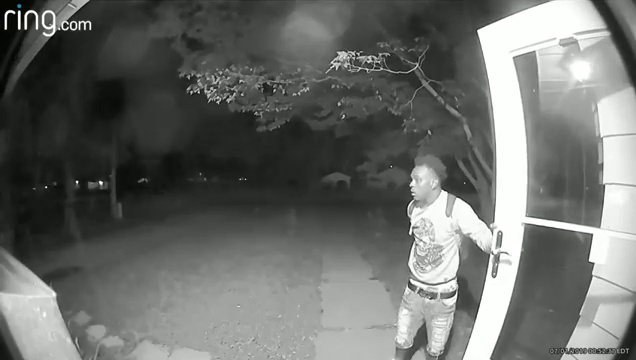face: (407, 169, 427, 200)
